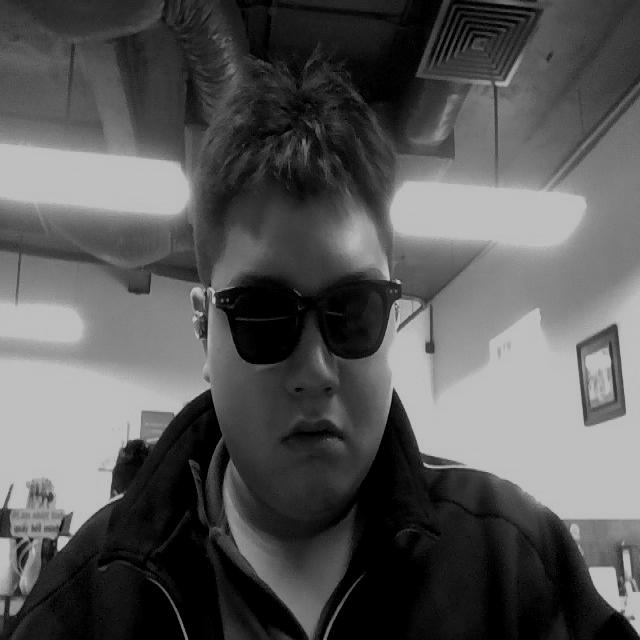fake: (210, 271, 406, 364)
real: (179, 79, 425, 530)
